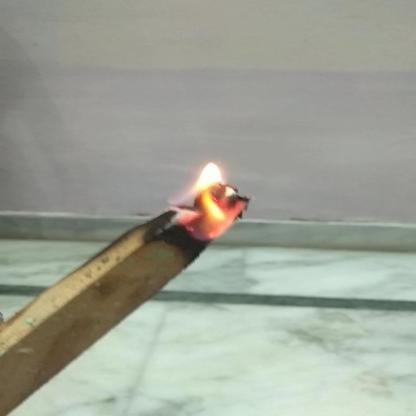fire: (164, 154, 257, 245)
